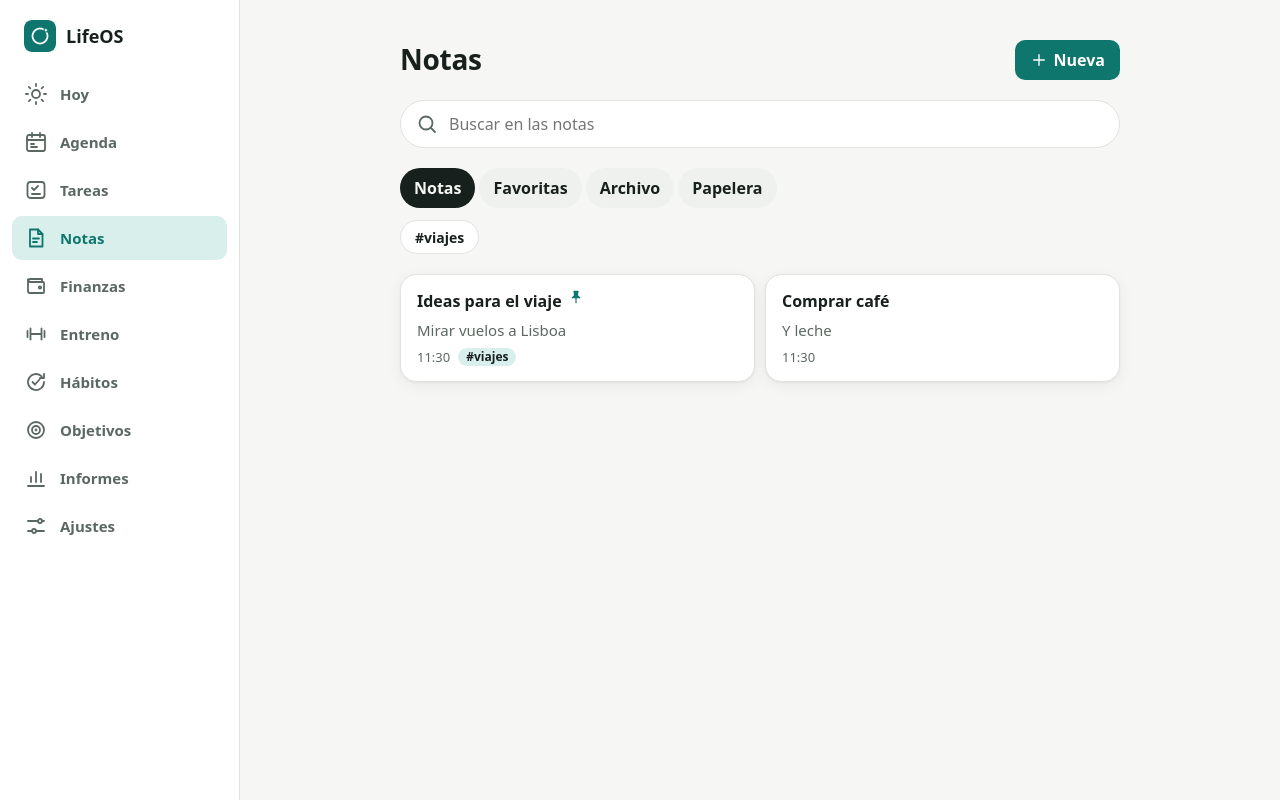
Test case: notas › lista las notas y busca por texto
Expected: the text "Ideas para el viaje" is shown, [417,289,562,313]
Expected: the text "Comprar café" is shown, [782,289,890,313]
Type "cafe" into the search field labelled "Buscar en las notas" at x=776, y=124, box [447,102,1105,146]
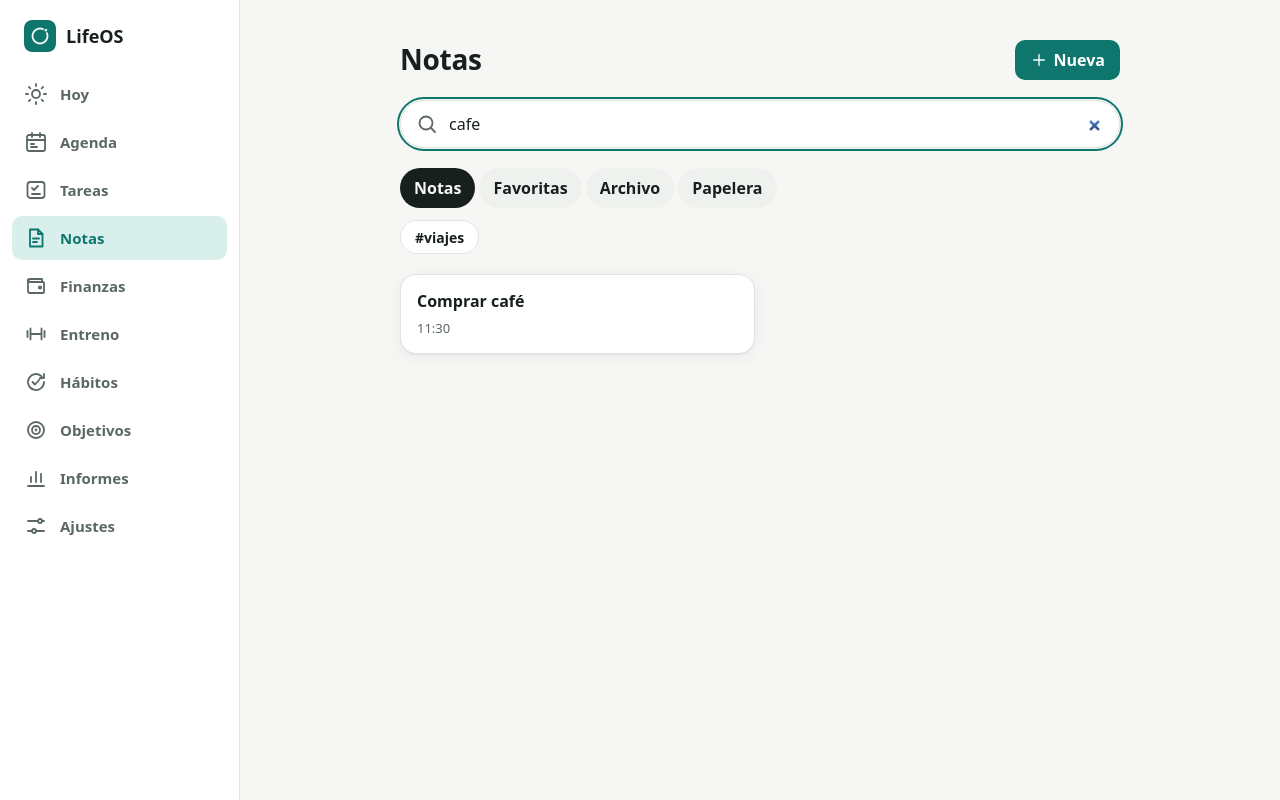
Now the button "Ideas para el viaje" is gone
